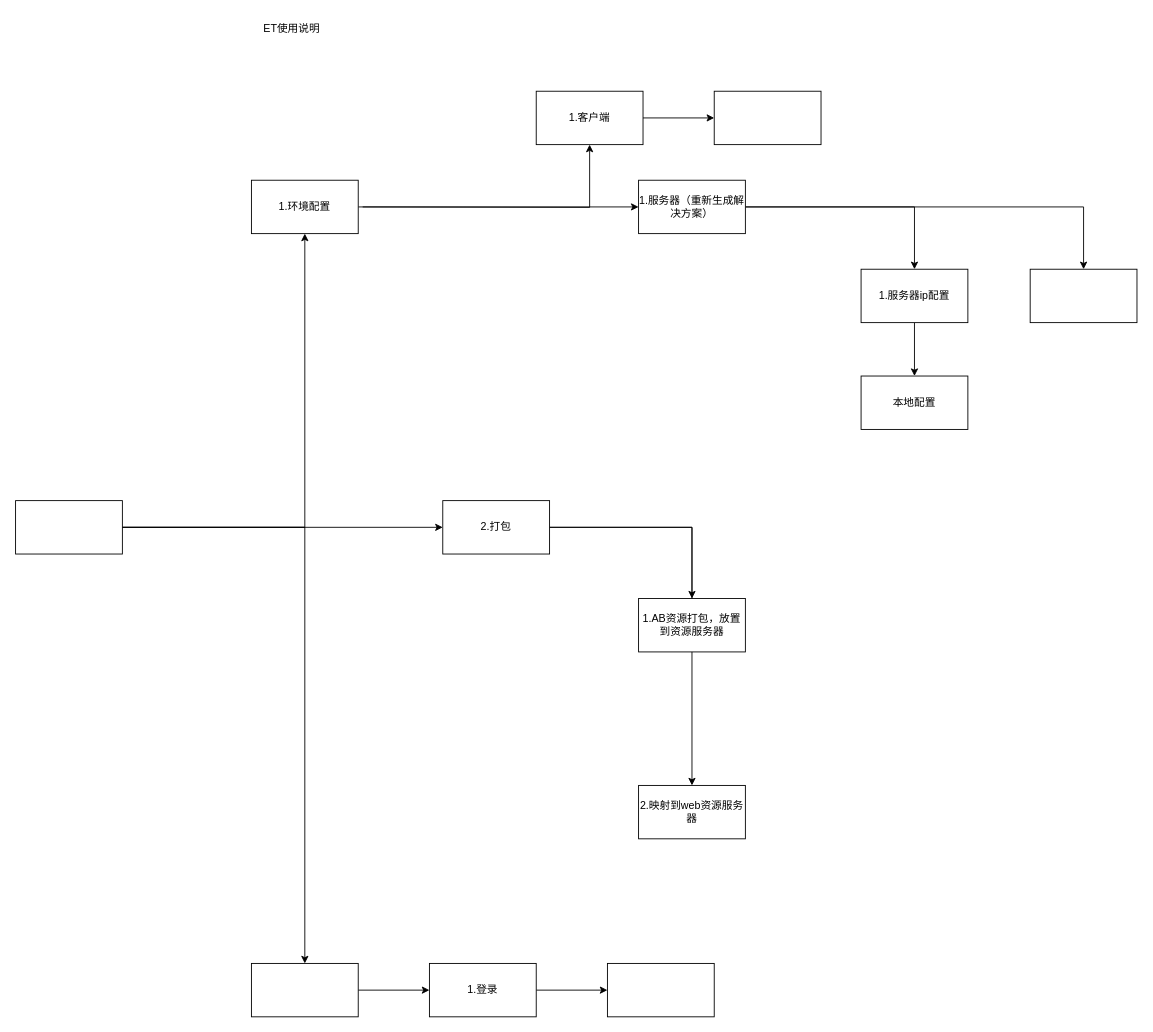
This 1153x1032 diagram has some shape labels left out. The box of each missing label's shape, as (x1, y1, x2, y2) in pixels:
1.Unity 工程重新生成解决方案: (713, 90, 821, 145)
2.启动运算服务器: (1029, 268, 1137, 323)
2.进入地图: (607, 963, 714, 1017)
3.启动Unity: (251, 963, 358, 1017)
使用流程: (15, 500, 122, 554)
